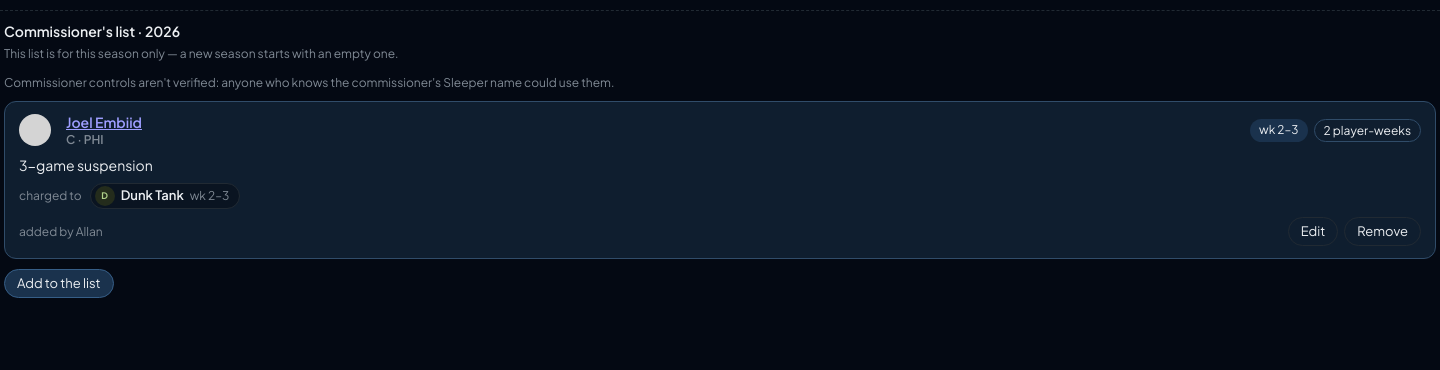
Test case: CommissionerListPanel › L2: a failed refresh after a successful write closes the form, still tells the cards, and says so
The image size is (1440, 370).
Click the button with aria-label "Remove Joel Embiid". click: (1383, 231)
box: 1344,217 -> 1421,246
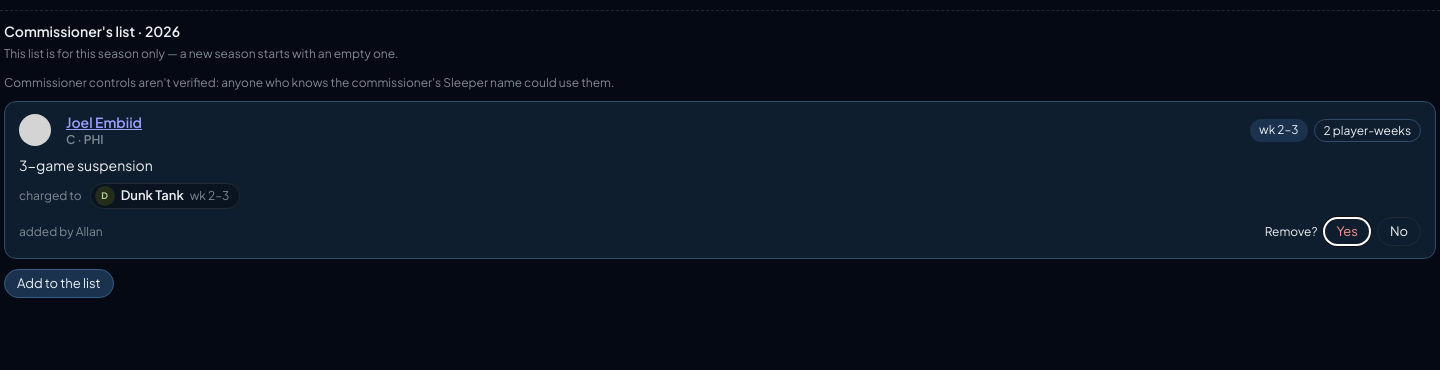
Click the button "Yes". click: (1347, 231)
box: 1324,217 -> 1371,246
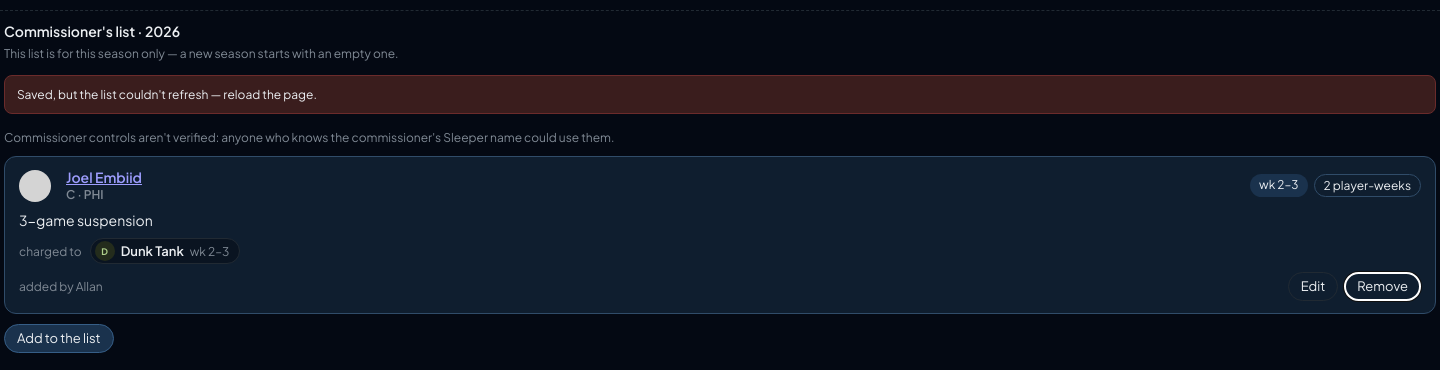
Result: the text "Saved, but the list couldn't refresh — reload the page." is shown at 4,75 -> 1436,114
